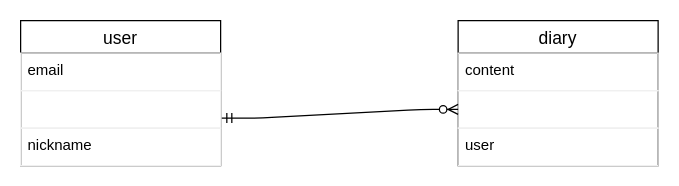
The diagram is 679 pixels wide and 186 high, and some of its shapes have lost their labels. Here are the shapes that lost their labels. From the top down, the centre of each, then its label:
At [120,108]: "password".
At [557,108]: "place".
